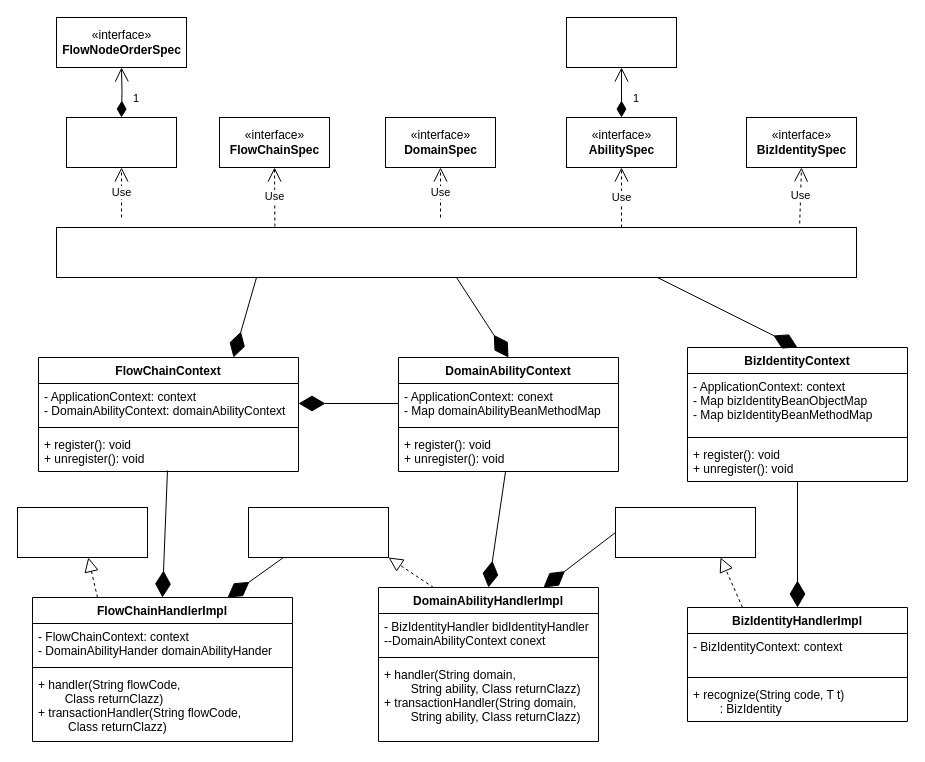
The diagram is 925 pixels wide and 762 high, and some of its shapes have lost their labels. The centre of each missing label's shape, as x and y in pixels:
«interface» AbilityOrderSpec: (x=621, y=42)
«interface» ApplicationContext: (x=456, y=252)
«interface» BizIdentityHandler: (x=685, y=532)
«interface» DomainAbilityHandler: (x=318, y=532)
«interface» FlowChainHandler: (x=82, y=532)
«interface» FlowNodeSpec: (x=121, y=142)
